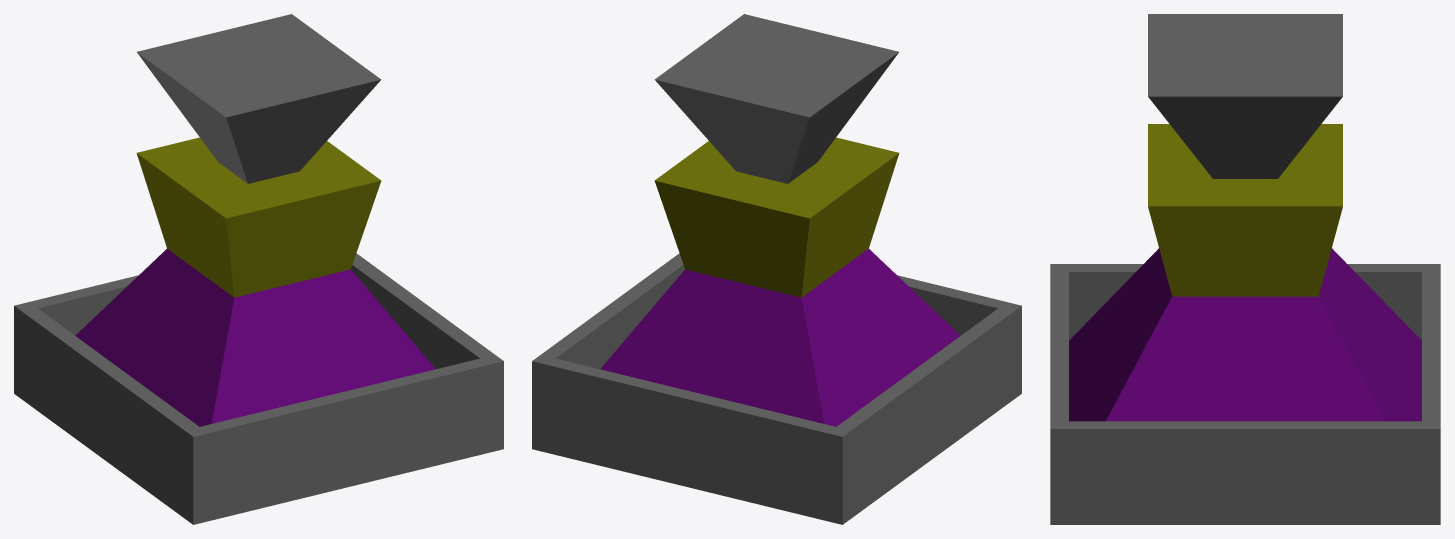
File: skin_4_2_model.fbx
3 views of the same model, side by side, from view 1: azimuth 30°, elevation 25°; view 2: azimuth 150°, elevation 25°; view 3: azimuth 270°, elevation 25° (orthographic). The views are drawn at different scales.
Parts seen in each view (by area): view 1: Cube; view 2: Cube; view 3: Cube.
Boxes of the visible parts, x1,y1,x2,y2 form: Cube: (14, 14, 503, 524); Cube: (532, 14, 1021, 524); Cube: (1050, 14, 1440, 524).
Bounding box in the file's own units: 200 × 219 × 200.
